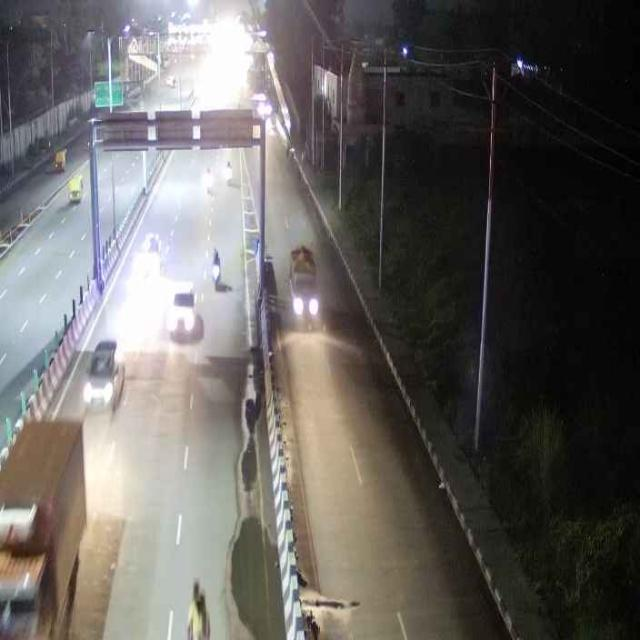car: (283, 235, 325, 327), (75, 334, 124, 412), (165, 283, 203, 339), (62, 170, 85, 208)
